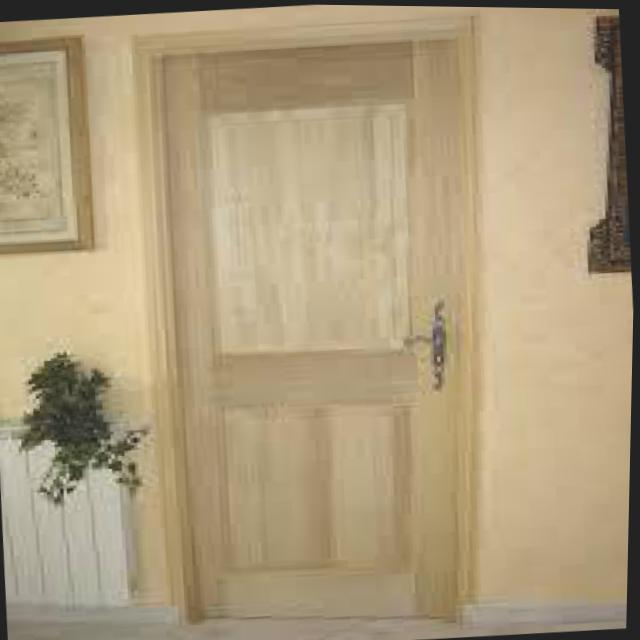close: (105, 2, 533, 639)
